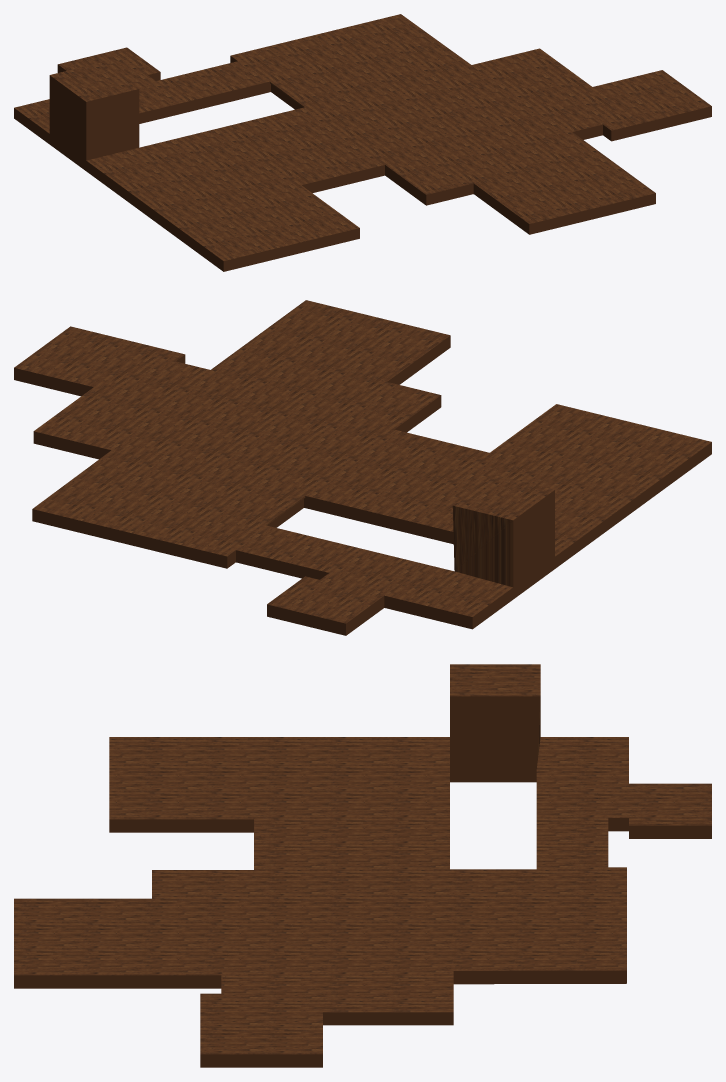
Rendered from SM_leaklighttest_DELETEtopo.fbx.
3 renders of one model, top to bottom at view 1: azimuth 30°, elevation 25°; view 2: azimuth 150°, elevation 25°; view 3: azimuth 270°, elevation 25°, orthographic. The views are drawn at different scales.
Parts seen in each view (by area): view 1: Middle_floorandroof.002; view 2: Middle_floorandroof.002; view 3: Middle_floorandroof.002.
Boxes of the visible parts, x1,y1,x2,y2 form: Middle_floorandroof.002: (14, 14, 711, 271); Middle_floorandroof.002: (14, 300, 711, 635); Middle_floorandroof.002: (14, 664, 711, 1067).
Size of the model in its own units: 2432 by 2260 by 307.
